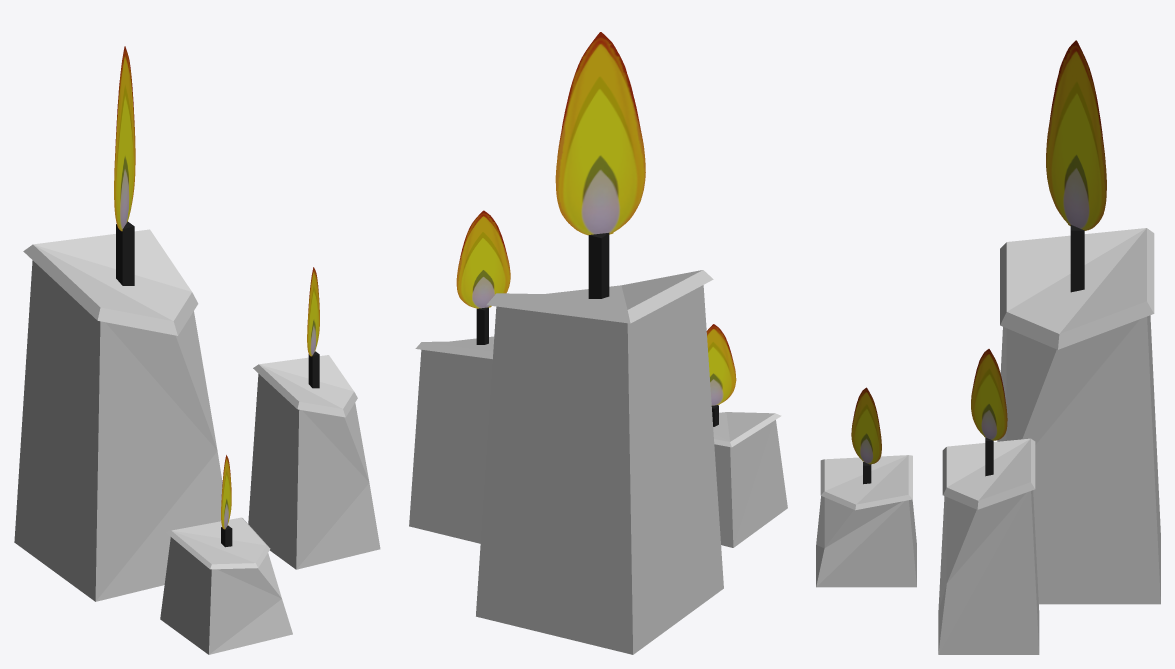
File: Candlegroup_lit.fbx
3 views of the same model, side by side, from view 1: azimuth 30°, elevation 25°; view 2: azimuth 150°, elevation 25°; view 3: azimuth 270°, elevation 25° (orthographic). The views are drawn at different scales.
Visible parts, largest first — view 1: Candlegroup_lit; view 2: Candlegroup_lit; view 3: Candlegroup_lit.
Part boxes in pixels (x1,y1,x2,y2): Candlegroup_lit: [14, 46, 380, 654]; Candlegroup_lit: [409, 32, 787, 654]; Candlegroup_lit: [816, 40, 1160, 654].
Bounding box in the file's own units: 0.8486 × 1.63 × 0.9446.
